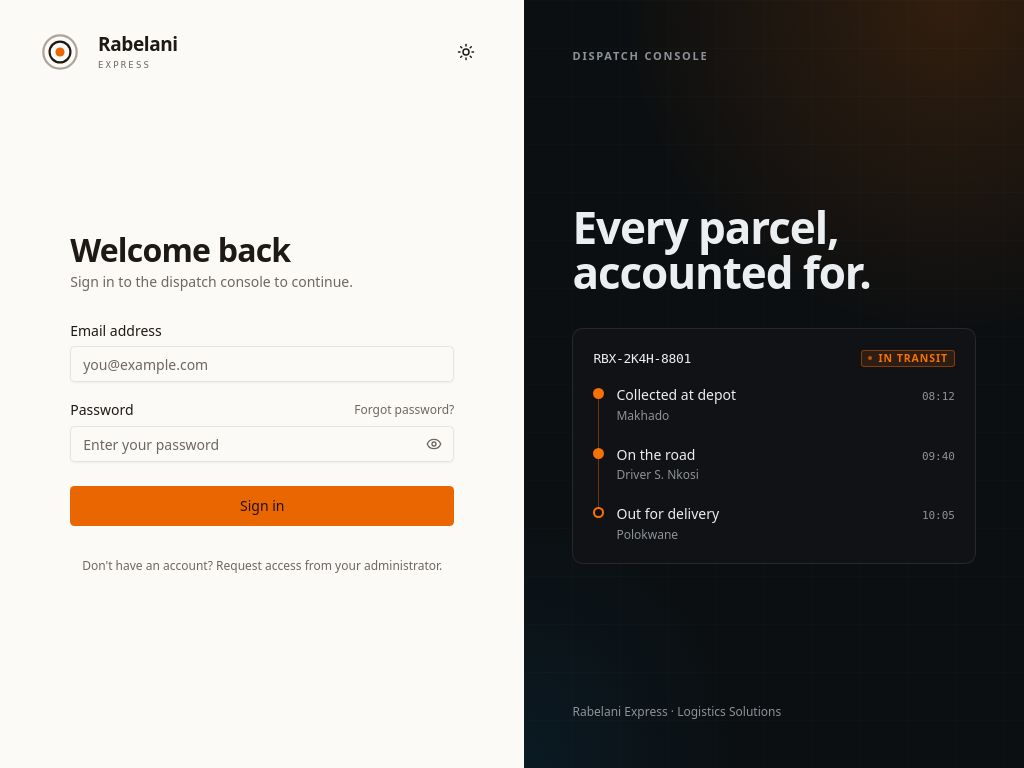
Login (integration) › shows validation errors when submitting an empty form
The width and height of the screenshot is (1024, 768).
Click the button "Sign in" at (262, 506), box x1=70 y1=486 x2=454 y2=526
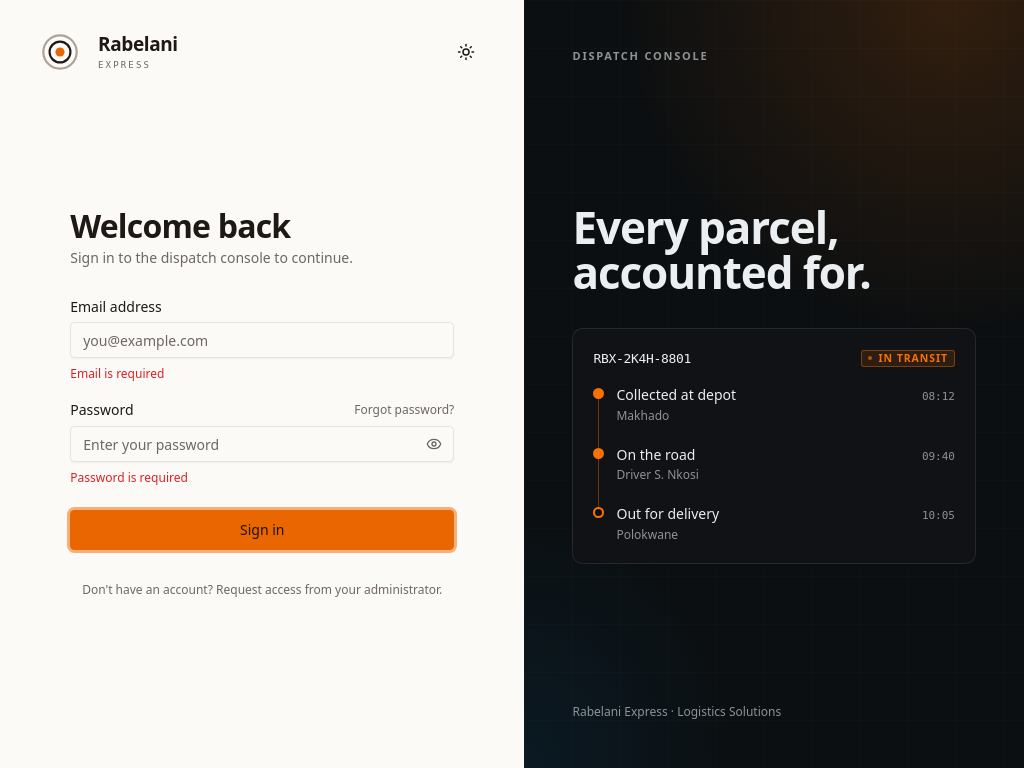
Check: the text "Email is required" is shown, box x1=70 y1=365 x2=164 y2=382
Check: the text "Password is required" is shown, box x1=70 y1=469 x2=188 y2=486
